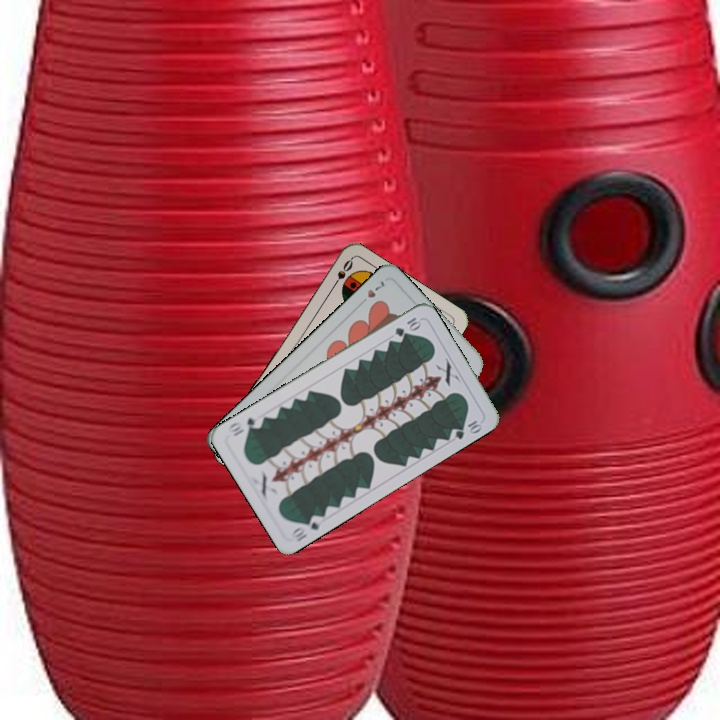G10: (288, 511, 322, 544), (391, 313, 424, 339)
H7: (355, 276, 387, 308)
SO: (328, 255, 356, 292)
